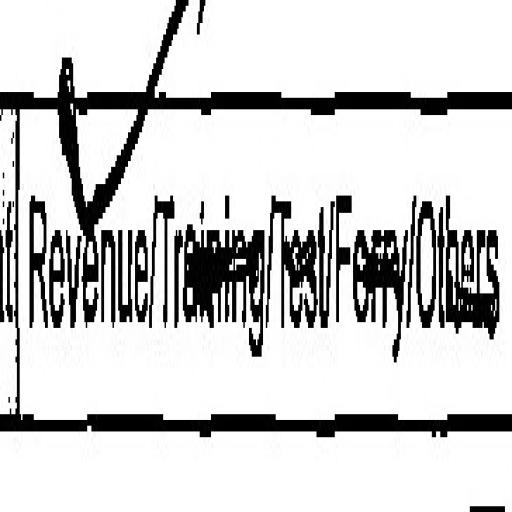check: (17, 0, 152, 461)
